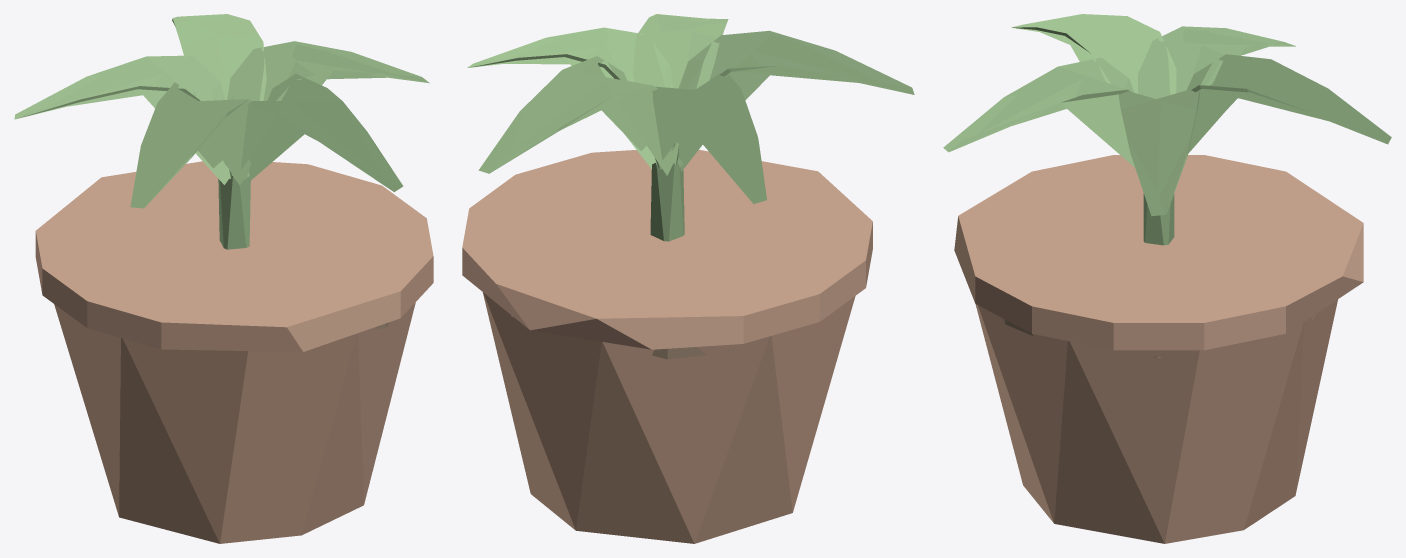
Rendered from 18-Casas_maceta_interior.glb.
3 views of the same model, side by side, from view 1: azimuth 30°, elevation 25°; view 2: azimuth 150°, elevation 25°; view 3: azimuth 270°, elevation 25° (orthographic). The views are drawn at different scales.
Visible parts, largest first — view 1: SM_Maceta_M_Mueble_Barro, SM_Maceta_M_Mueble_VerdeHoja; view 2: SM_Maceta_M_Mueble_Barro, SM_Maceta_M_Mueble_VerdeHoja; view 3: SM_Maceta_M_Mueble_Barro, SM_Maceta_M_Mueble_VerdeHoja.
Part boxes in pixels (<box>): SM_Maceta_M_Mueble_Barro: <box>35,161,433,543</box>; SM_Maceta_M_Mueble_VerdeHoja: <box>14,14,429,249</box>; SM_Maceta_M_Mueble_Barro: <box>462,150,872,543</box>; SM_Maceta_M_Mueble_VerdeHoja: <box>467,14,914,241</box>; SM_Maceta_M_Mueble_Barro: <box>954,155,1363,543</box>; SM_Maceta_M_Mueble_VerdeHoja: <box>943,14,1391,245</box>.
Bounding box in the file's own units: 0.5637 × 0.622 × 0.5941.
